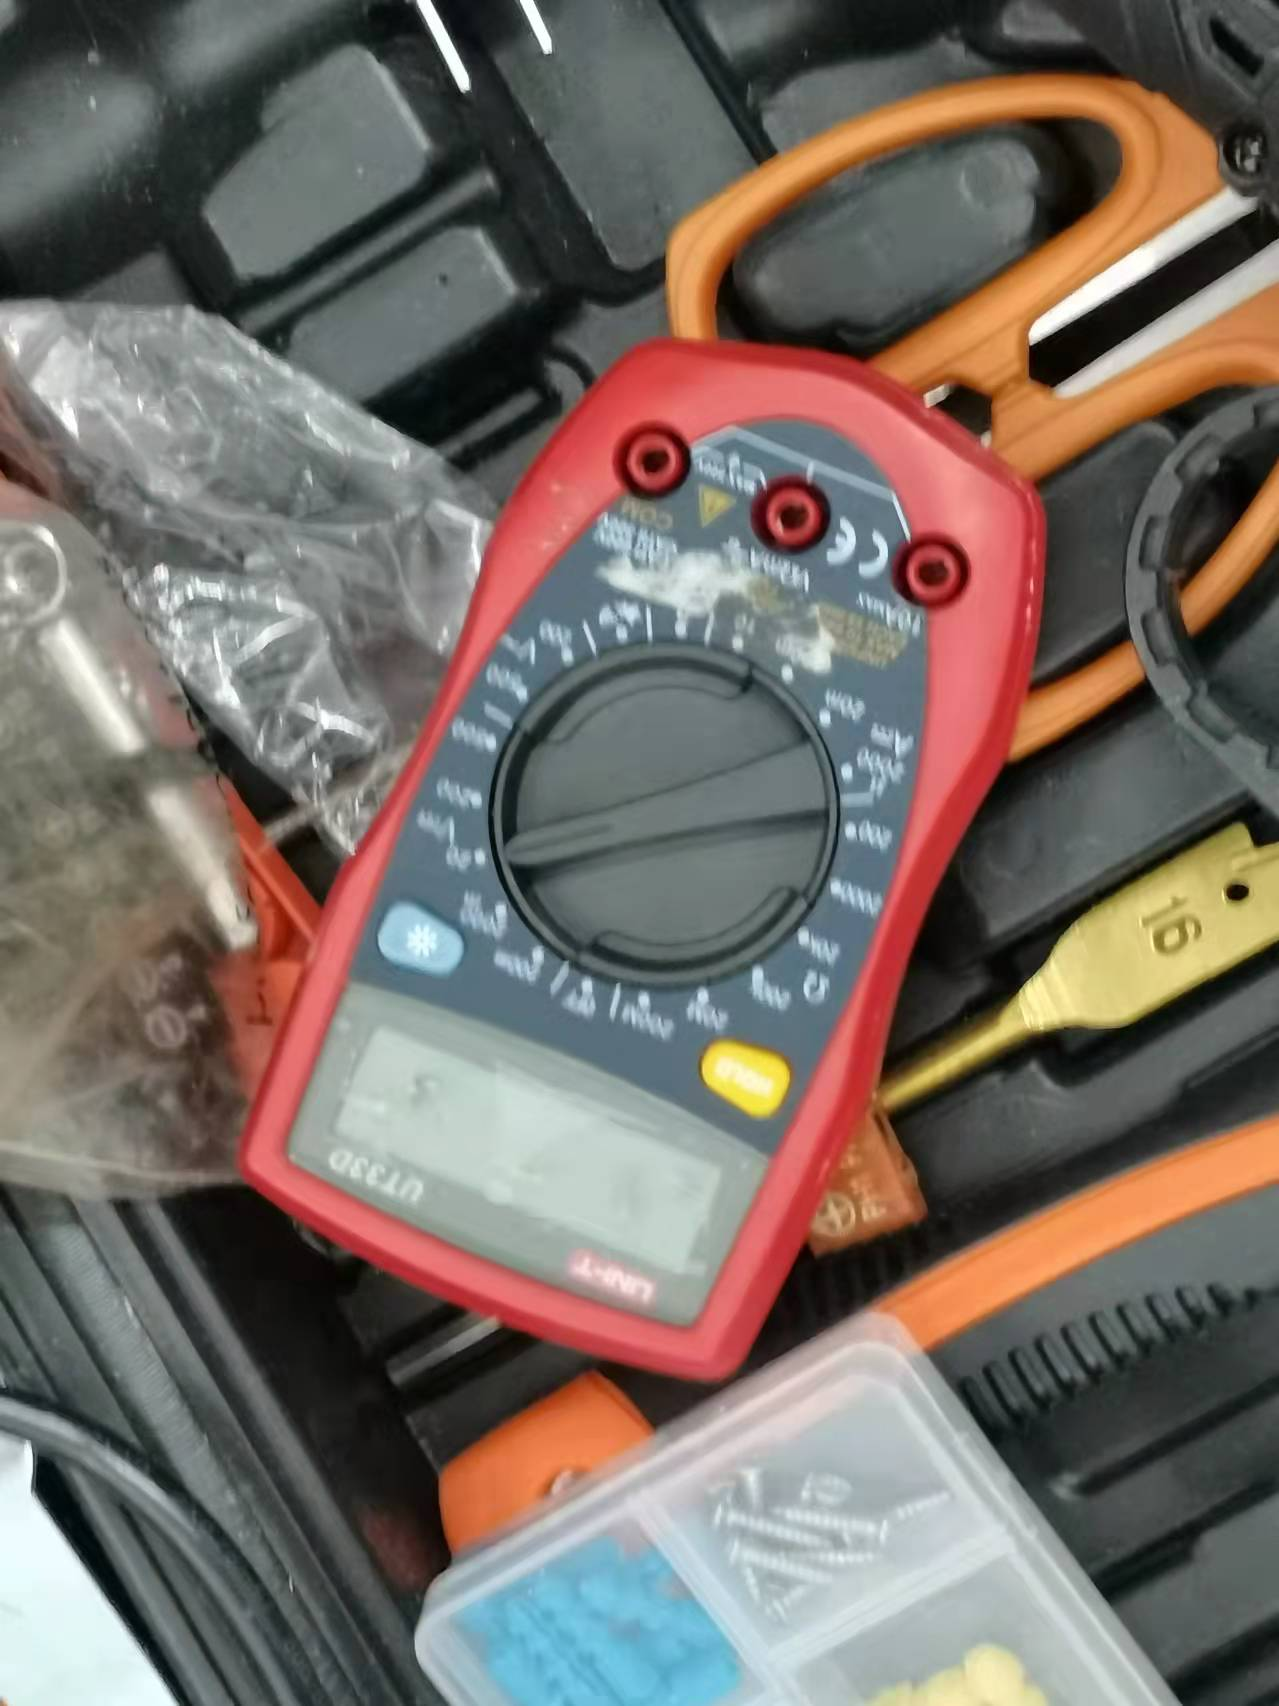Multimeter: (236, 336, 1045, 1392)
